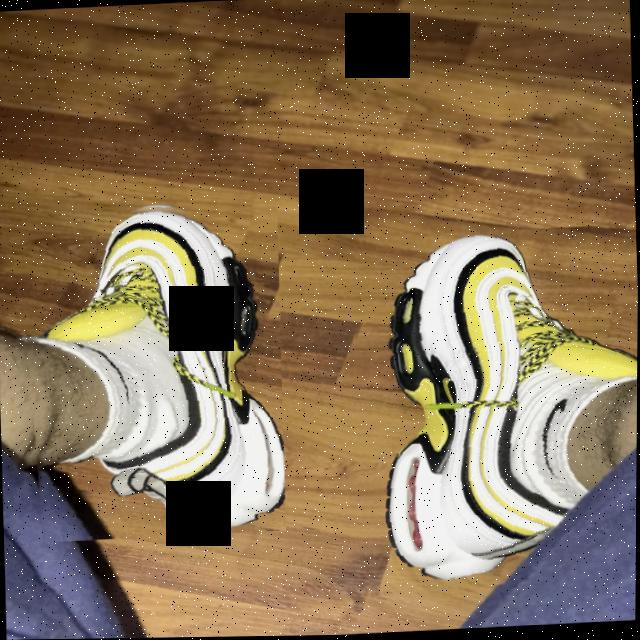shoe: (347, 226, 639, 598), (12, 195, 288, 543)
